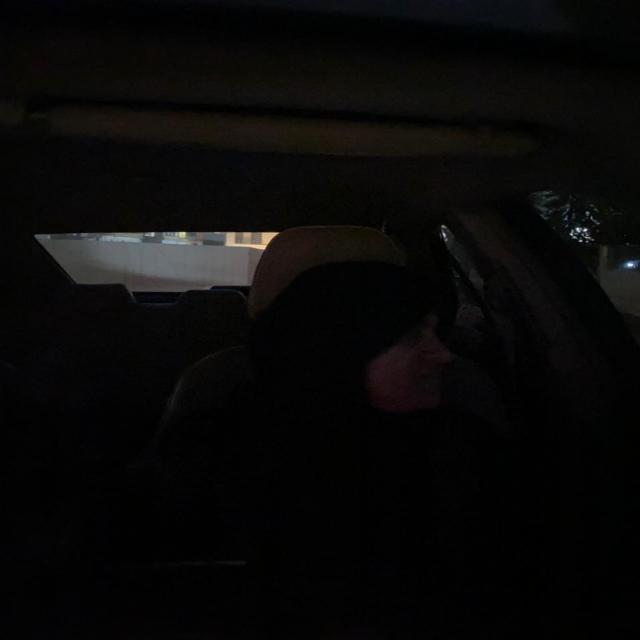LeftRight: (261, 253, 483, 437)
